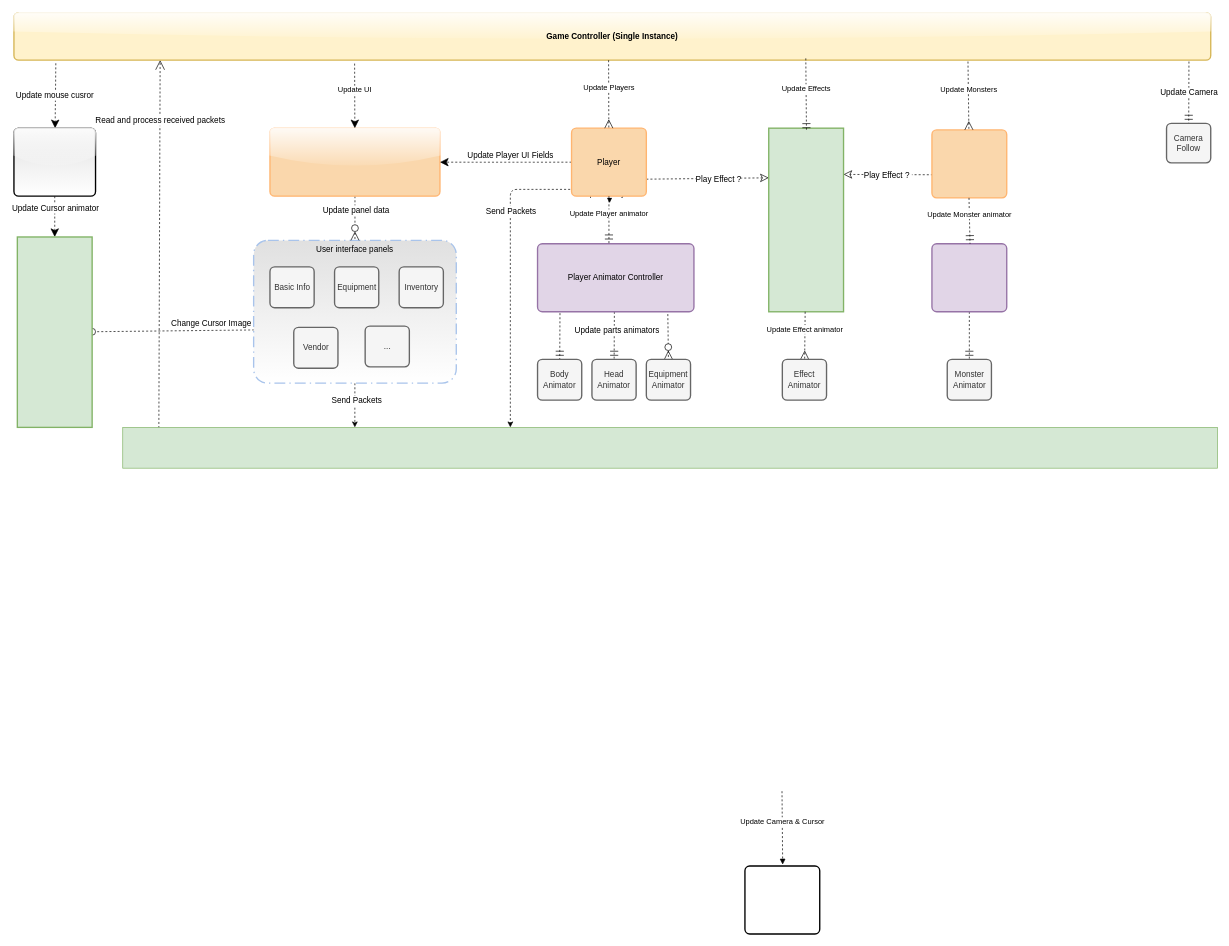
The diagram is 1229 pixels wide and 946 high, and some of its shapes have lost their labels. Here are the shapes that lost their labels. From the top down, the centre of each, then its label:
At [54,162]: "Mouse Cursor (Single Instance)".
At [354,162]: "UI Controller (Single Instance)".
At [969,163]: "Monster".
At [806,219]: "Effect Controller (static)".
At [969,277]: "Monster Animator Controller".
At [54,332]: "Cursor Animator (static)".
At [670,447]: "Network (Static)".
At [782,899]: "Camera / Cursor".
